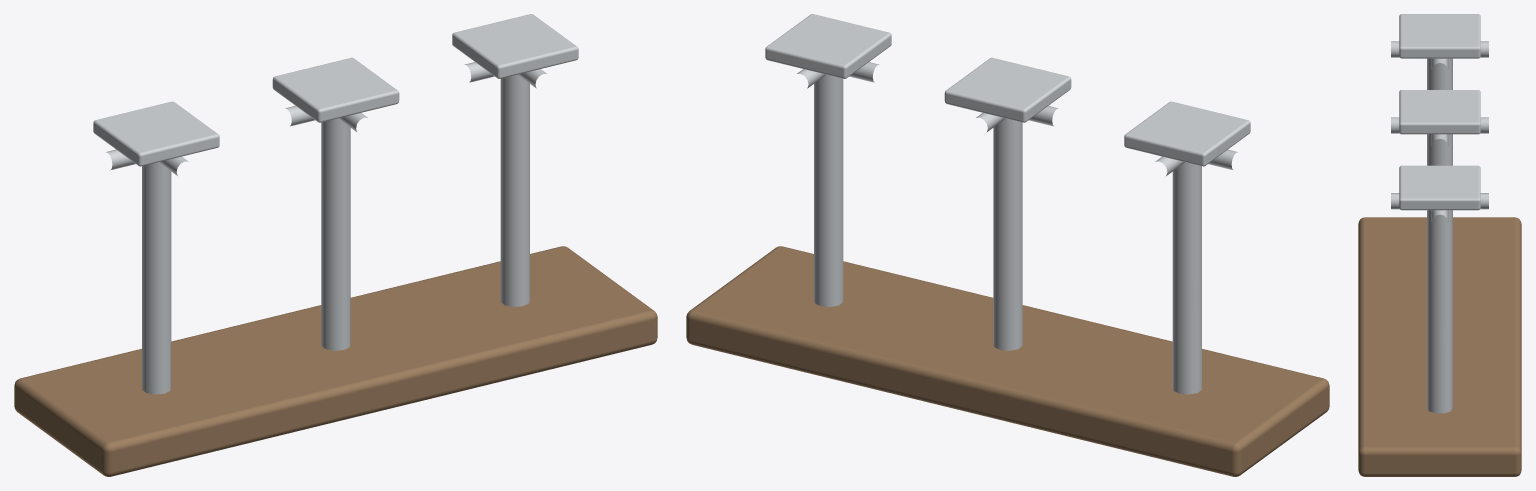
File: chocolate-making-and-confectionery-dipping-fork-set-b234d578__39156.glb
3 renders of one model, left to right at view 1: azimuth 30°, elevation 25°; view 2: azimuth 150°, elevation 25°; view 3: azimuth 270°, elevation 25°, orthographic. The views are drawn at different scales.
Visible parts, largest first — view 1: dipping-fork-set; view 2: dipping-fork-set; view 3: dipping-fork-set.
Part boxes in pixels (<box>): dipping-fork-set: <box>14,14,657,476</box>; dipping-fork-set: <box>686,14,1329,476</box>; dipping-fork-set: <box>1358,14,1521,476</box>.
Bounding box in the file's own units: 0.34 × 0.173 × 0.1.
